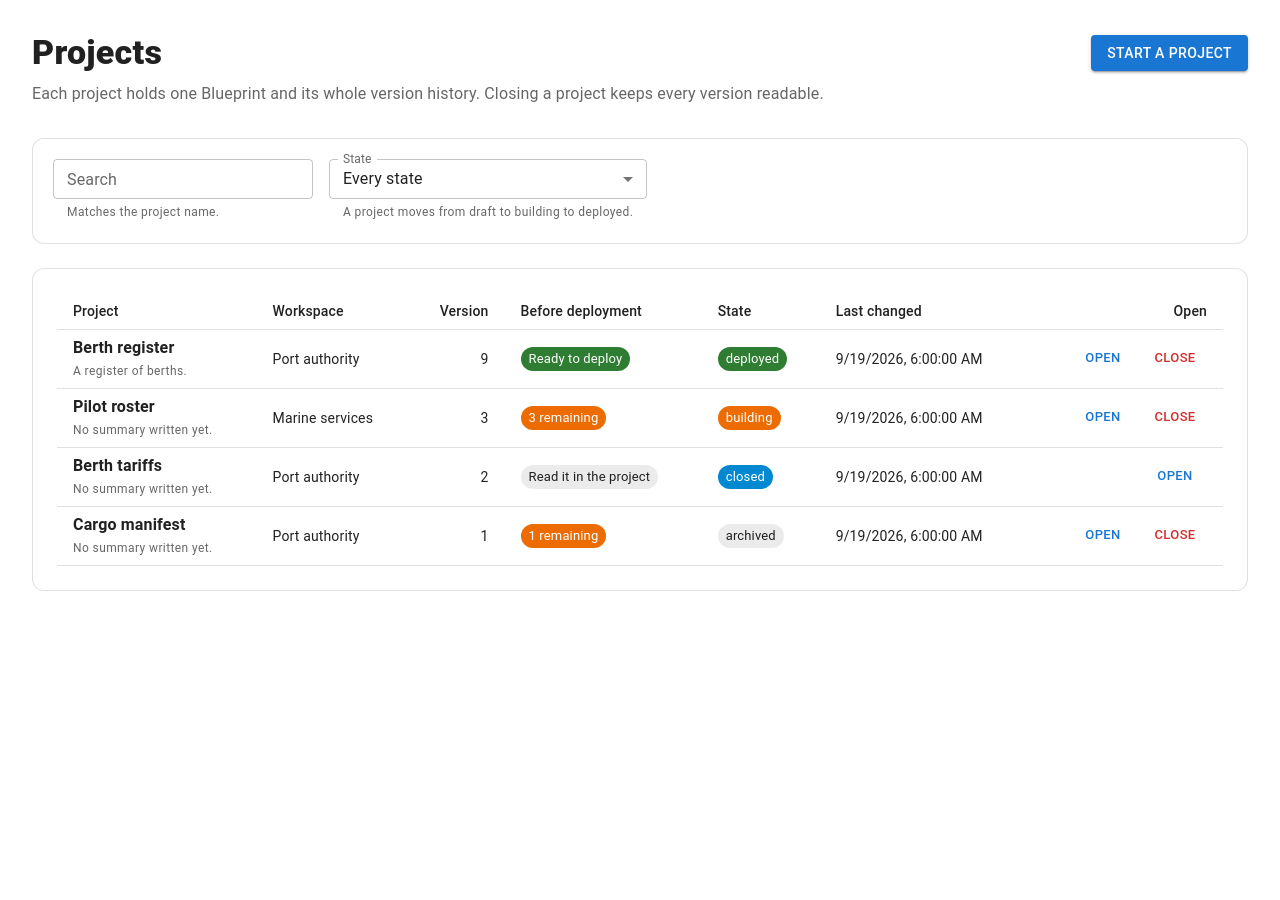
the Projects panel › closes a project after the person confirms and reads the list again
This screenshot has width=1280, height=900.
Expected: the text "Berth register" is shown, [73, 338, 174, 357]
Click the button "Close" in the row of "Berth register" at (1175, 359), box [1143, 344, 1207, 374]
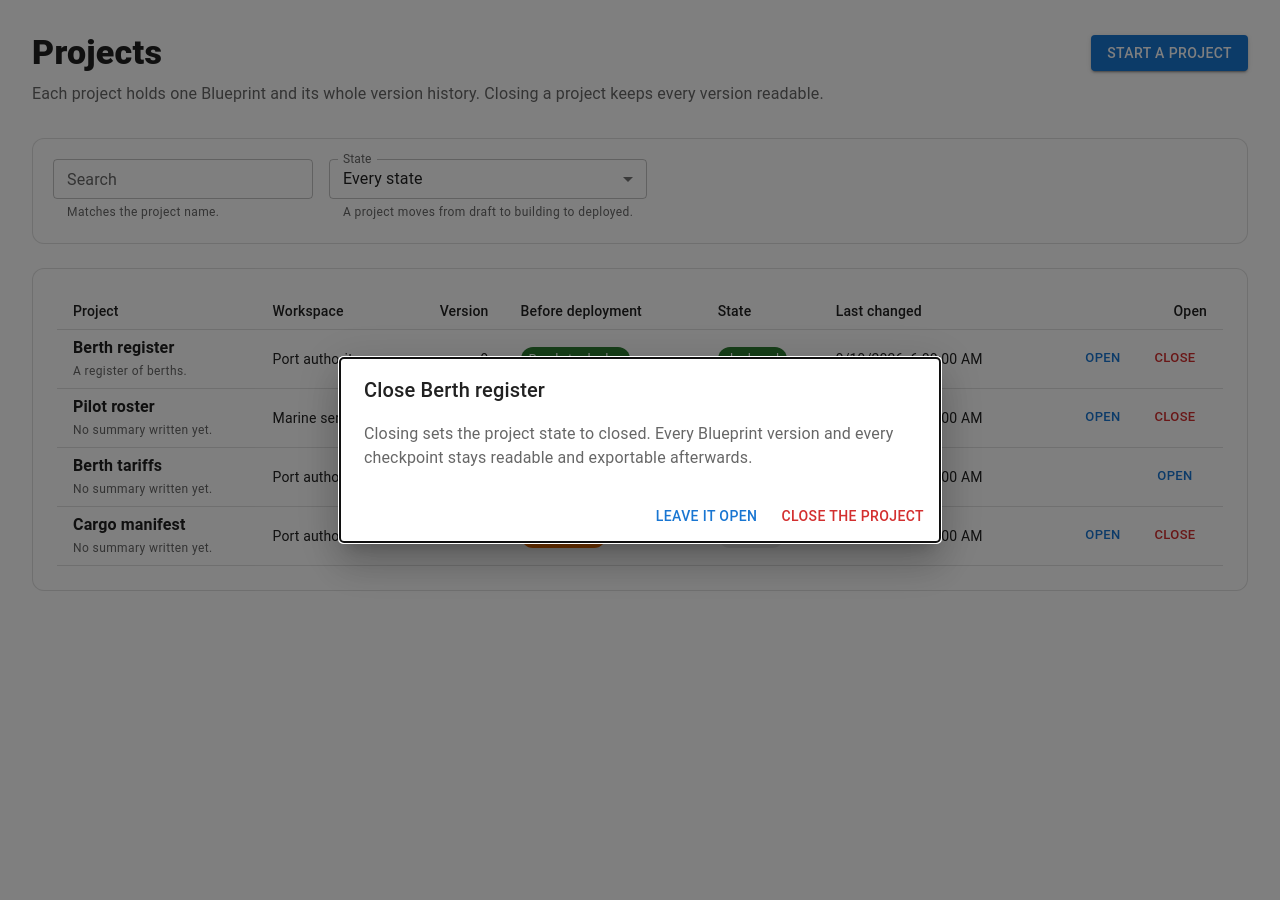
Expected: the heading "Close Berth register" is shown, [364, 378, 545, 402]
Click the button "Leave it open" at (707, 516), box [648, 498, 766, 534]
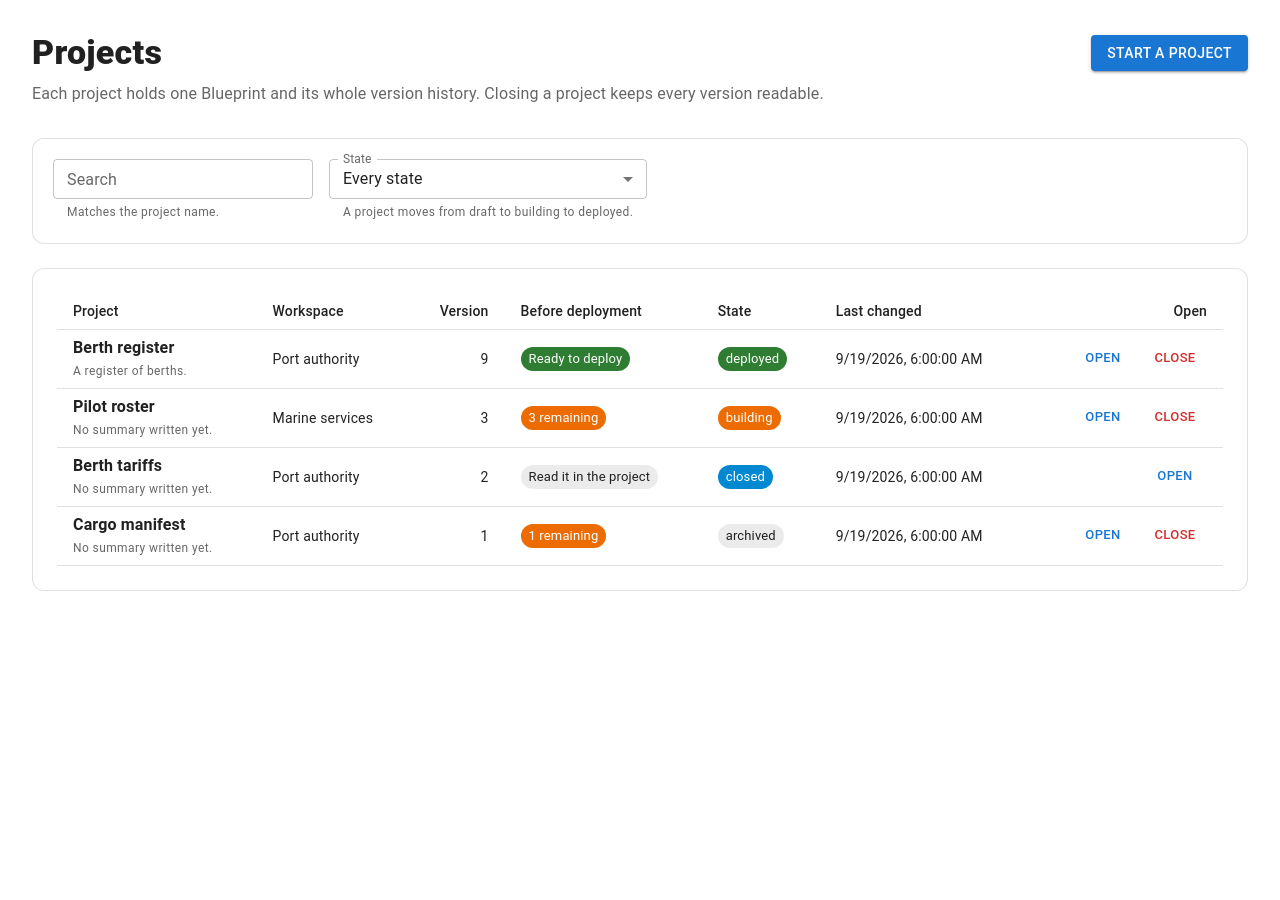
Expected: the dialog is gone
Click the button "Close" in the row of "Pilot roster" at (1175, 418), box [1143, 402, 1207, 433]
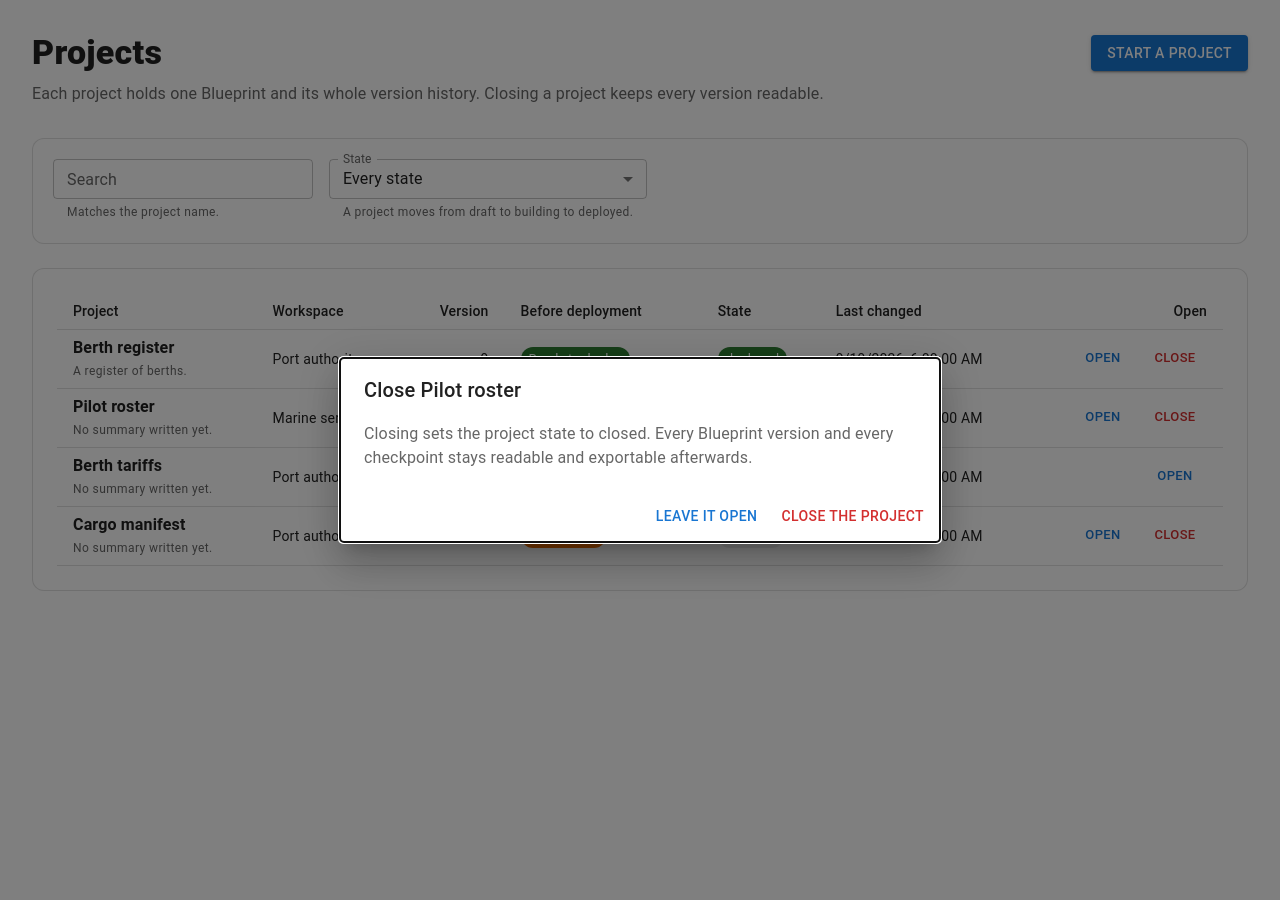
Expected: the heading "Close Pilot roster" is shown, [364, 378, 521, 402]
Click the button "Close the project" at (853, 516), box [773, 498, 932, 534]
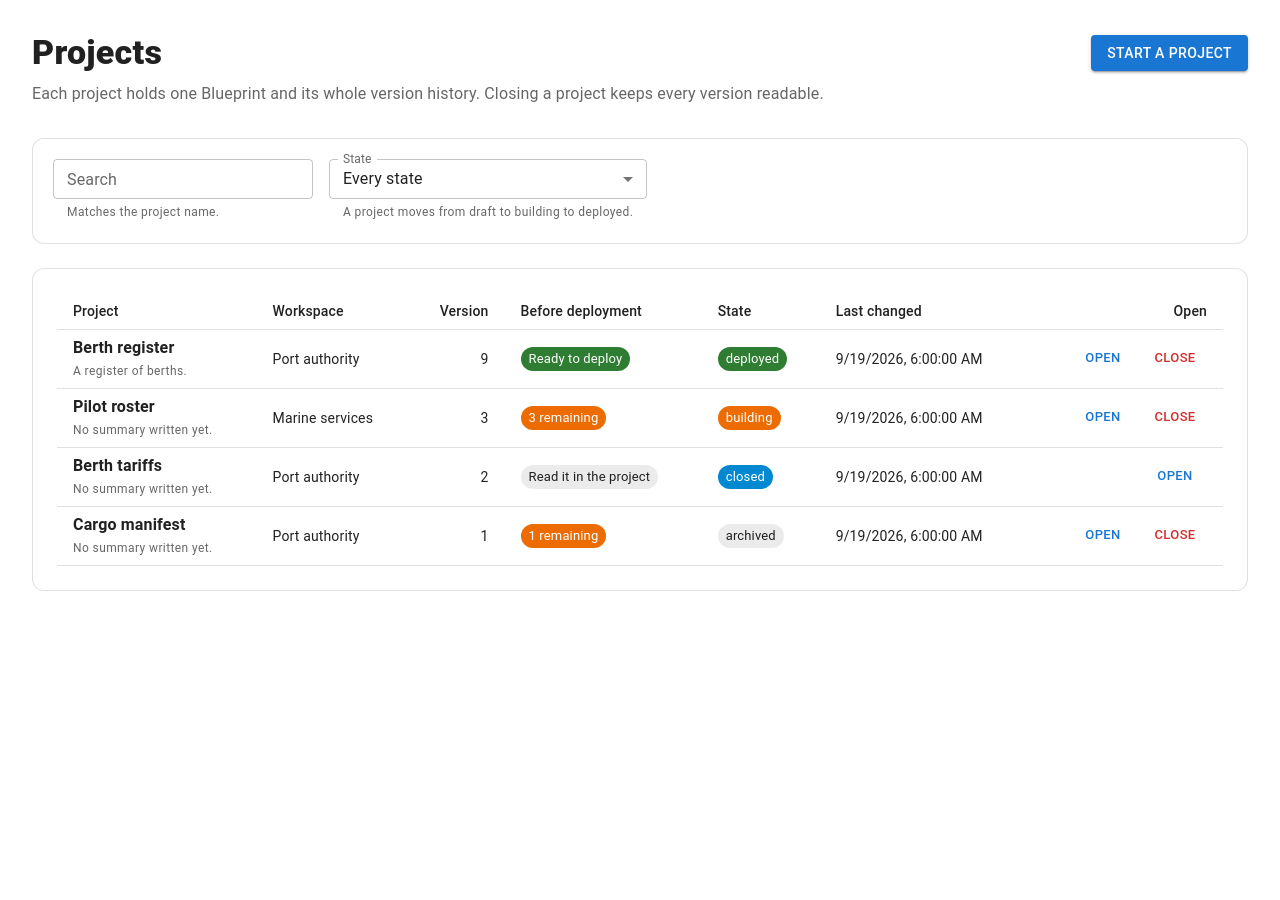
Expected: the dialog is gone
